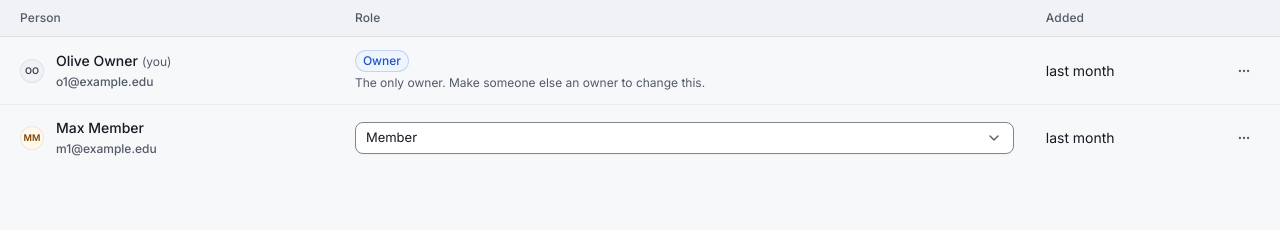
Test: member management rules › puts Leave and Remove in the row menu, and gives the only owner no role select (W6)
Expected: the text "Max Member" is shown, [56, 117, 157, 138]
Expected: the text "The only owner. Make someone else an owner to change this." is shown, [355, 75, 705, 90]
Click the button named "Actions for Olive Owner": (1244, 70) [1228, 54, 1260, 86]
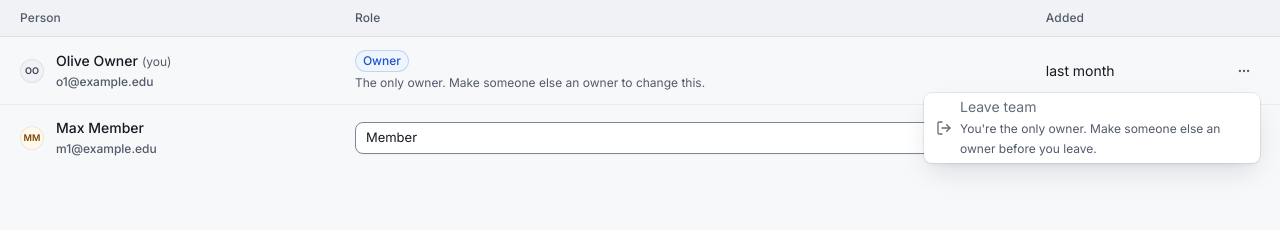
Expected: the menu item "Leave team" shows "You're the only owner", [928, 97, 1256, 159]
Press Escape
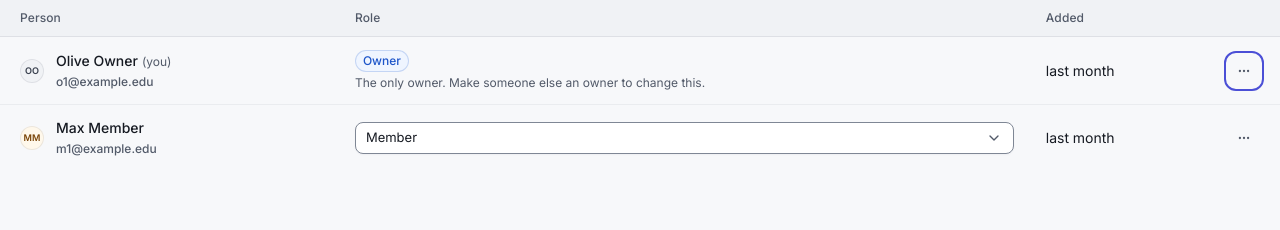
Click the button named "Actions for Max Member": (1244, 138) [1228, 122, 1260, 154]
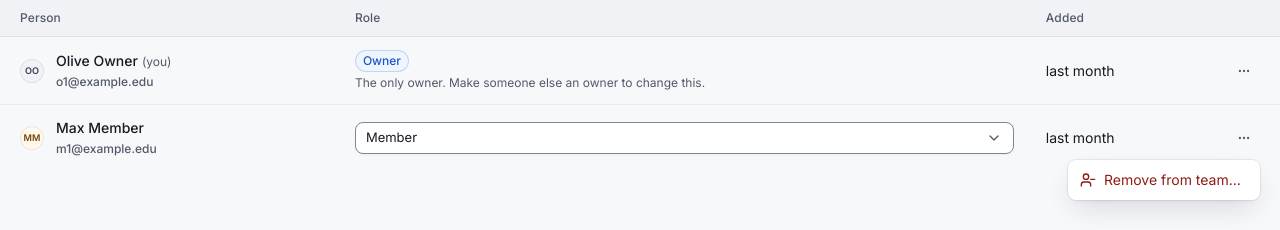
Expected: the menu item "Remove from team…" is shown, [1080, 171, 1241, 188]
